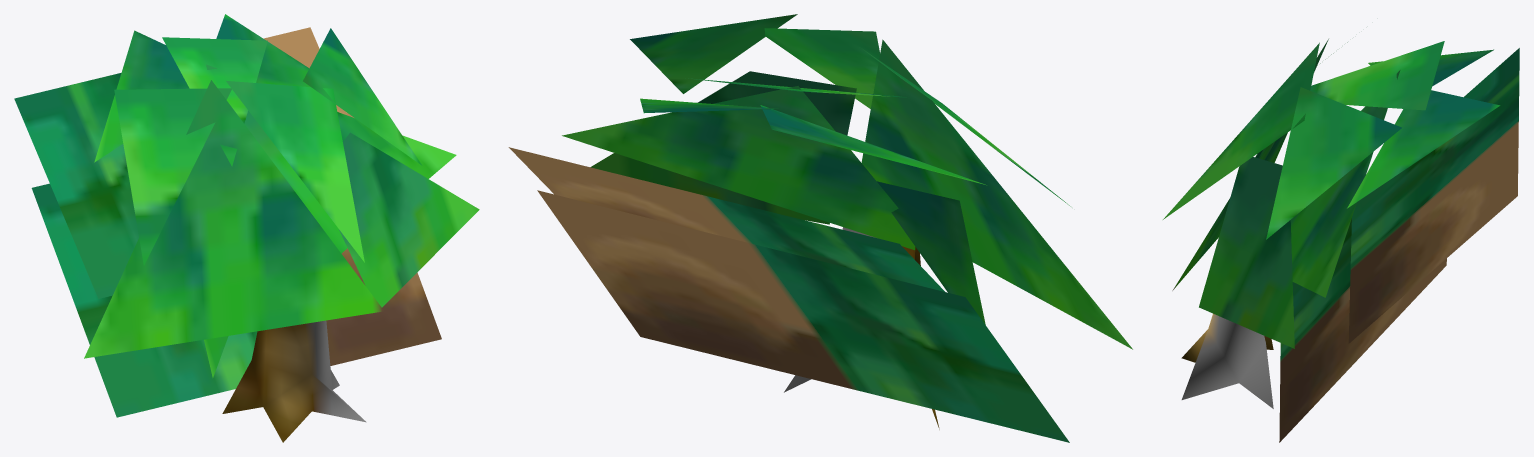
File: fg_bushB_1.dae
The picture shows the model from 3 angles, left to right: view 1: azimuth 30°, elevation 25°; view 2: azimuth 150°, elevation 25°; view 3: azimuth 270°, elevation 25°; orthographic projection. The views are drawn at different scales.
Visible parts, largest first — view 1: fg_bushB_1; view 2: fg_bushB_1; view 3: fg_bushB_1.
Boxes of the visible parts, x1,y1,x2,y2 form: fg_bushB_1: (14,14,479,442); fg_bushB_1: (508,14,1132,442); fg_bushB_1: (1163,39,1519,442).
Size of the model in its own units: 34.76 by 25.18 by 25.46.
Materials: 1 (1 with a texture image).
